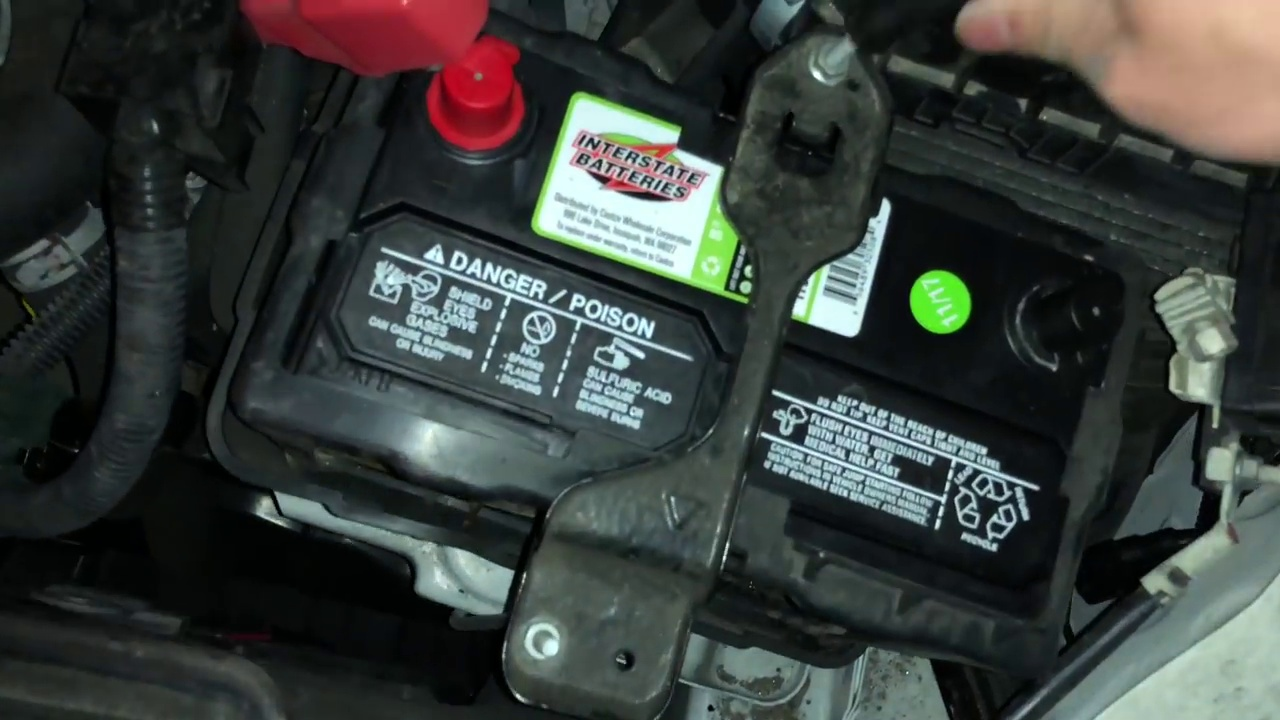battery: (307, 3, 1118, 648)
pos_disconnected: (310, 6, 544, 173)
